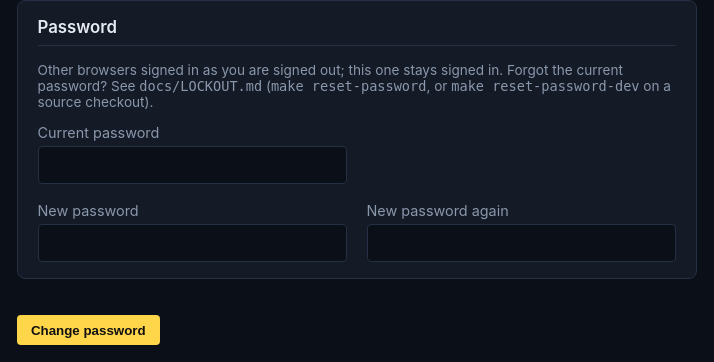
Scenario: PasswordPanel › two different new passwords never reach the API
This screenshot has width=714, height=362.
Type "old-password" into the password field labelled "Current password" at (192, 165), box [38, 146, 346, 184]
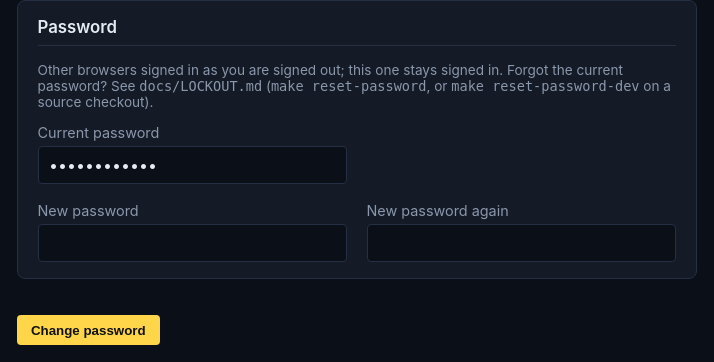
Type "new-password-1" into the password field labelled "New password" at (192, 243), box [38, 224, 346, 262]
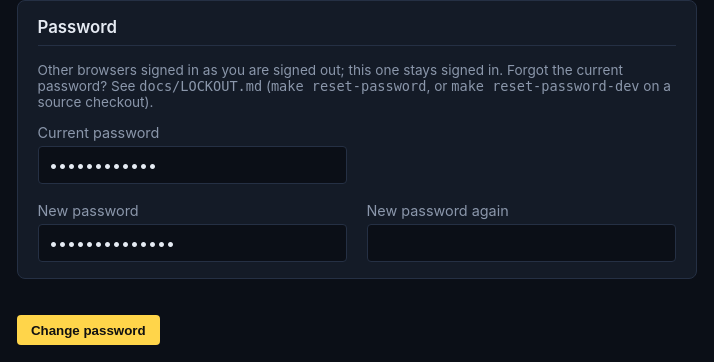
Type "new-password-2" into the password field labelled "New password again" at (521, 243), box [366, 224, 676, 262]
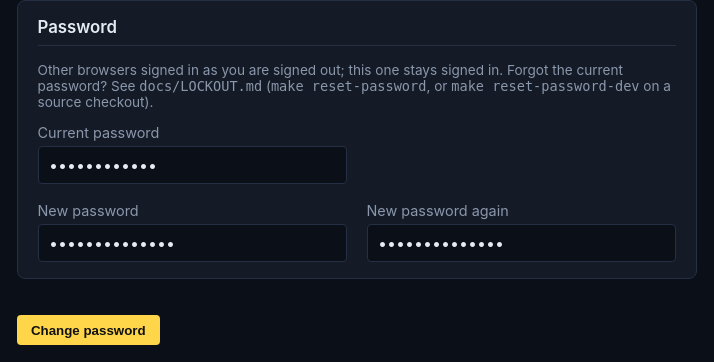
Click the button "Change password" at (88, 330), box [16, 315, 160, 345]
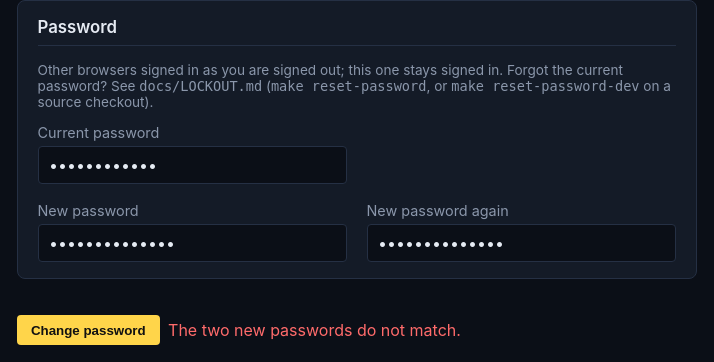
Result: the text "The two new passwords do not match." is shown at [168, 320, 461, 340]
Type "old-password-" into the password field labelled "Current password" at (192, 165), box [38, 146, 346, 184]
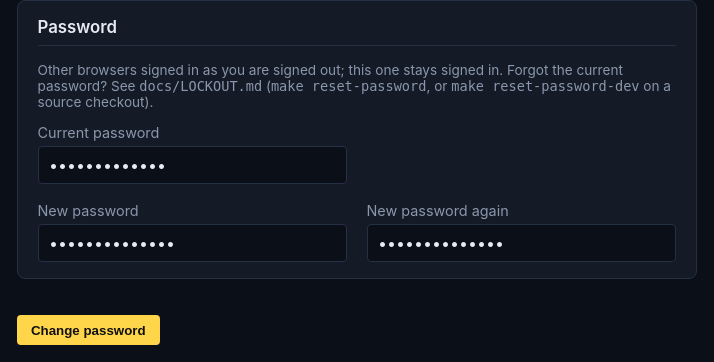
Result: the text "The two new passwords do not match." is gone
